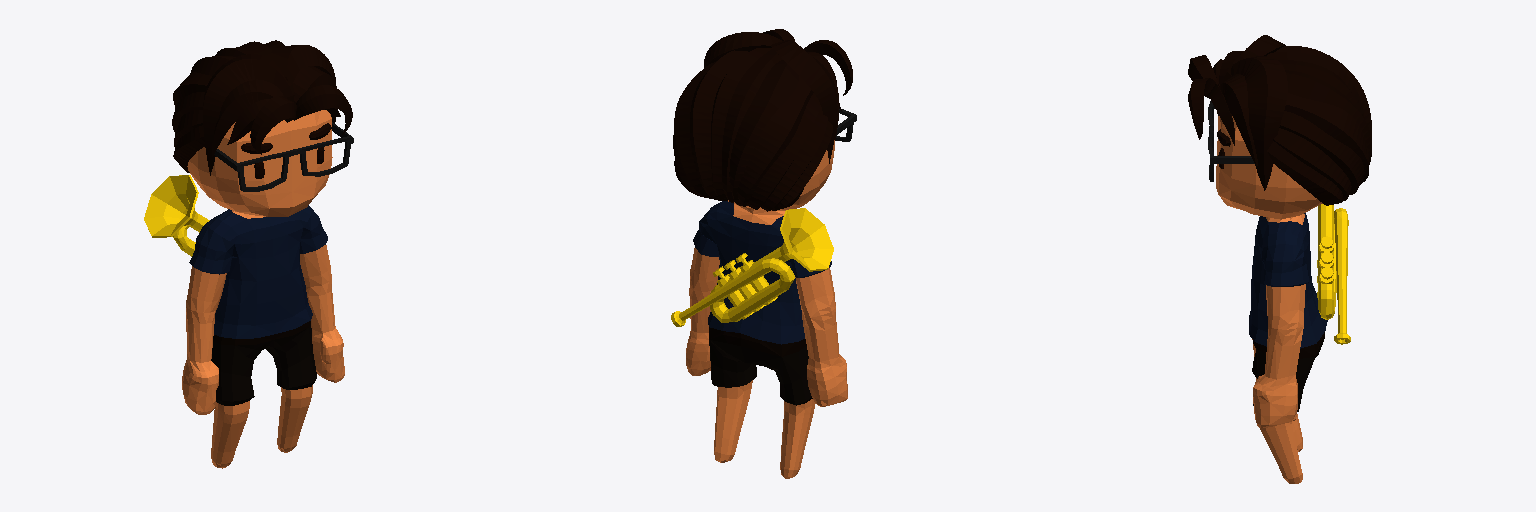
The model's file is fel.obj.
3 renders of one model, left to right at view 1: azimuth 30°, elevation 25°; view 2: azimuth 150°, elevation 25°; view 3: azimuth 270°, elevation 25°, orthographic.
Visible parts, largest first — view 1: Body, trumpet_Circle.006, Glasses_01_Plane.001; view 2: Body, trumpet_Circle.006; view 3: Body, trumpet_Circle.006, Glasses_01_Plane.001.
Part boxes in pixels (left/top/right/bottom): Body: left=172, top=40, right=352, bottom=468; trumpet_Circle.006: left=144, top=175, right=209, bottom=256; Glasses_01_Plane.001: left=214, top=122, right=353, bottom=191; Body: left=673, top=29, right=852, bottom=478; trumpet_Circle.006: left=671, top=208, right=833, bottom=326; Body: left=1188, top=35, right=1371, bottom=483; trumpet_Circle.006: left=1317, top=204, right=1350, bottom=344; Glasses_01_Plane.001: left=1208, top=101, right=1254, bottom=181.
Bounding box in the file's own units: 1.35 × 3.29 × 1.31.